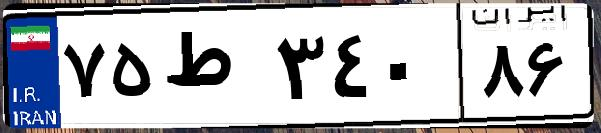0: (385, 28, 445, 110)
3: (270, 28, 330, 110)
4: (330, 28, 385, 110)
5: (110, 28, 158, 98)
6: (525, 38, 570, 115)
7: (57, 26, 110, 100)
8: (475, 38, 525, 113)
ط: (158, 20, 270, 120)
